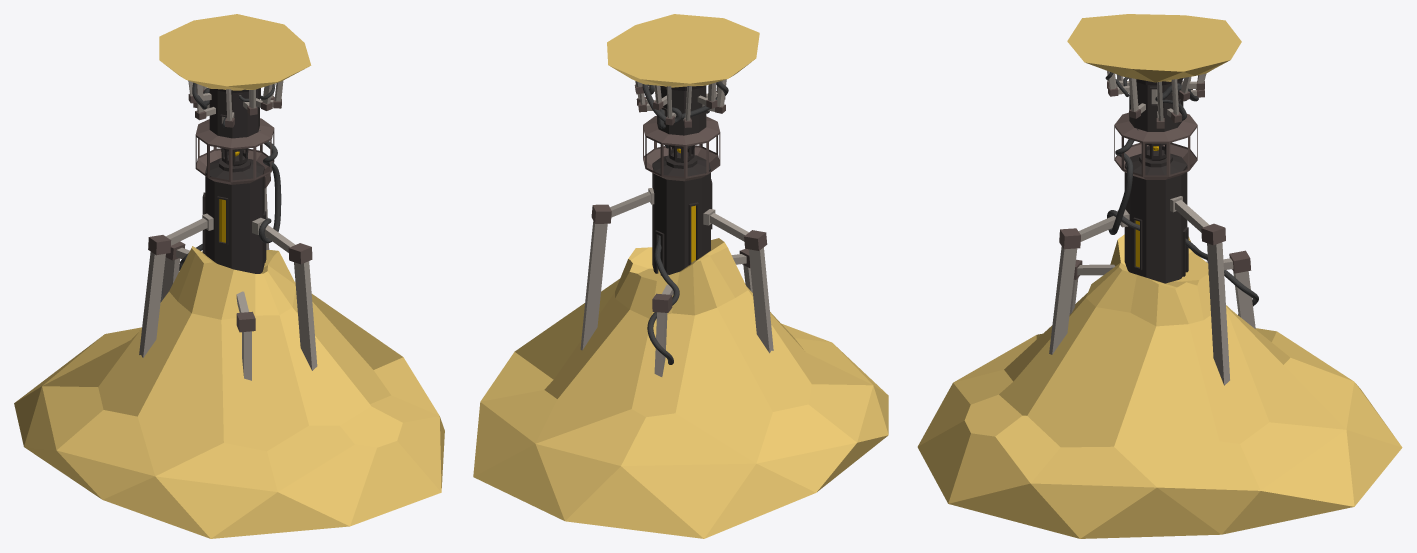
Rendered from baseisland.fbx.
3 views of the same model, side by side, from view 1: azimuth 30°, elevation 25°; view 2: azimuth 150°, elevation 25°; view 3: azimuth 270°, elevation 25° (orthographic). The views are drawn at different scales.
Visible parts, largest first — view 1: base, wire; view 2: base, wire; view 3: base, wire.
Boxes of the visible parts, x1,y1,x2,y2 form: base: (14,14,444,538); wire: (160,82,281,302); base: (473,14,888,538); wire: (642,81,728,364); base: (917,14,1402,538); wire: (1107,83,1258,315).
Bounding box in the file's own units: 22698 × 24608 × 26166.
